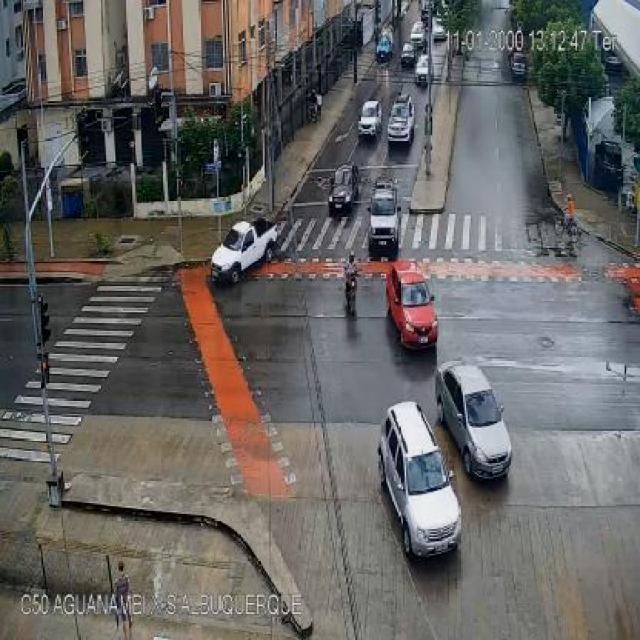Car: (377, 404, 461, 557), (437, 363, 513, 478), (384, 262, 438, 349), (367, 180, 401, 256), (328, 163, 361, 213), (386, 95, 414, 143), (358, 100, 382, 138), (414, 53, 430, 87), (509, 51, 527, 80), (376, 32, 393, 62), (400, 43, 416, 69), (410, 22, 425, 48), (432, 18, 446, 42)
Truck: (210, 218, 280, 284)
